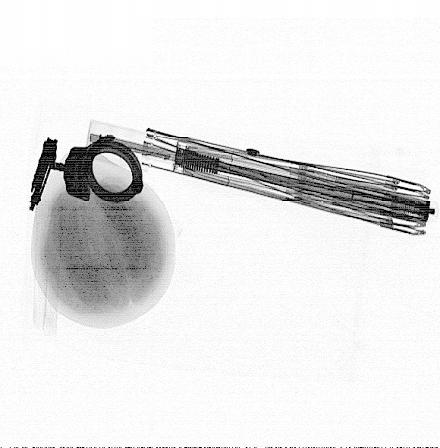HandCuffs: (28, 134, 143, 214)
